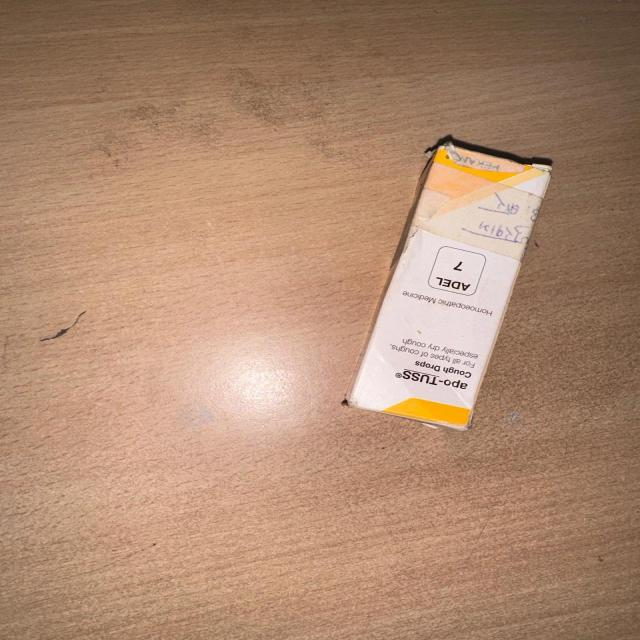medicine: (329, 130, 578, 448)
